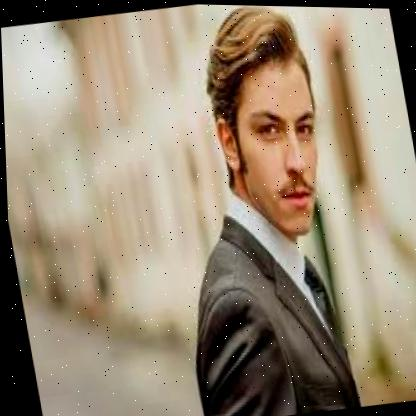person: (194, 4, 340, 246)
